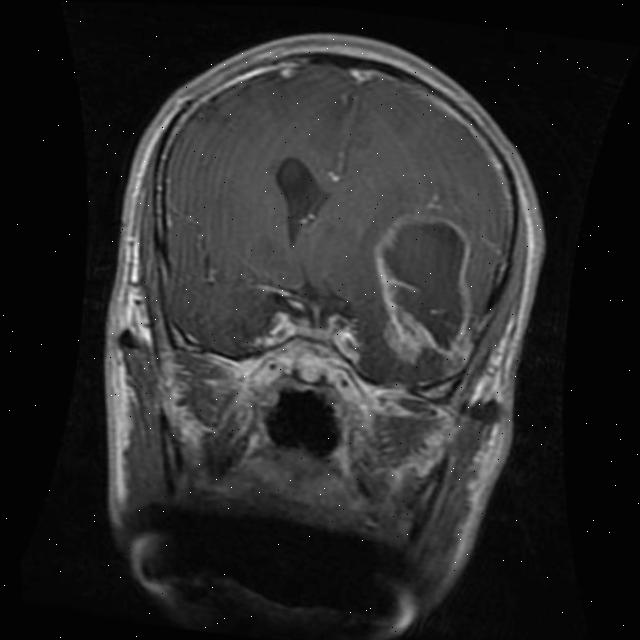Glioma: (360, 210, 484, 372)
Pituitary: (294, 349, 326, 385)
